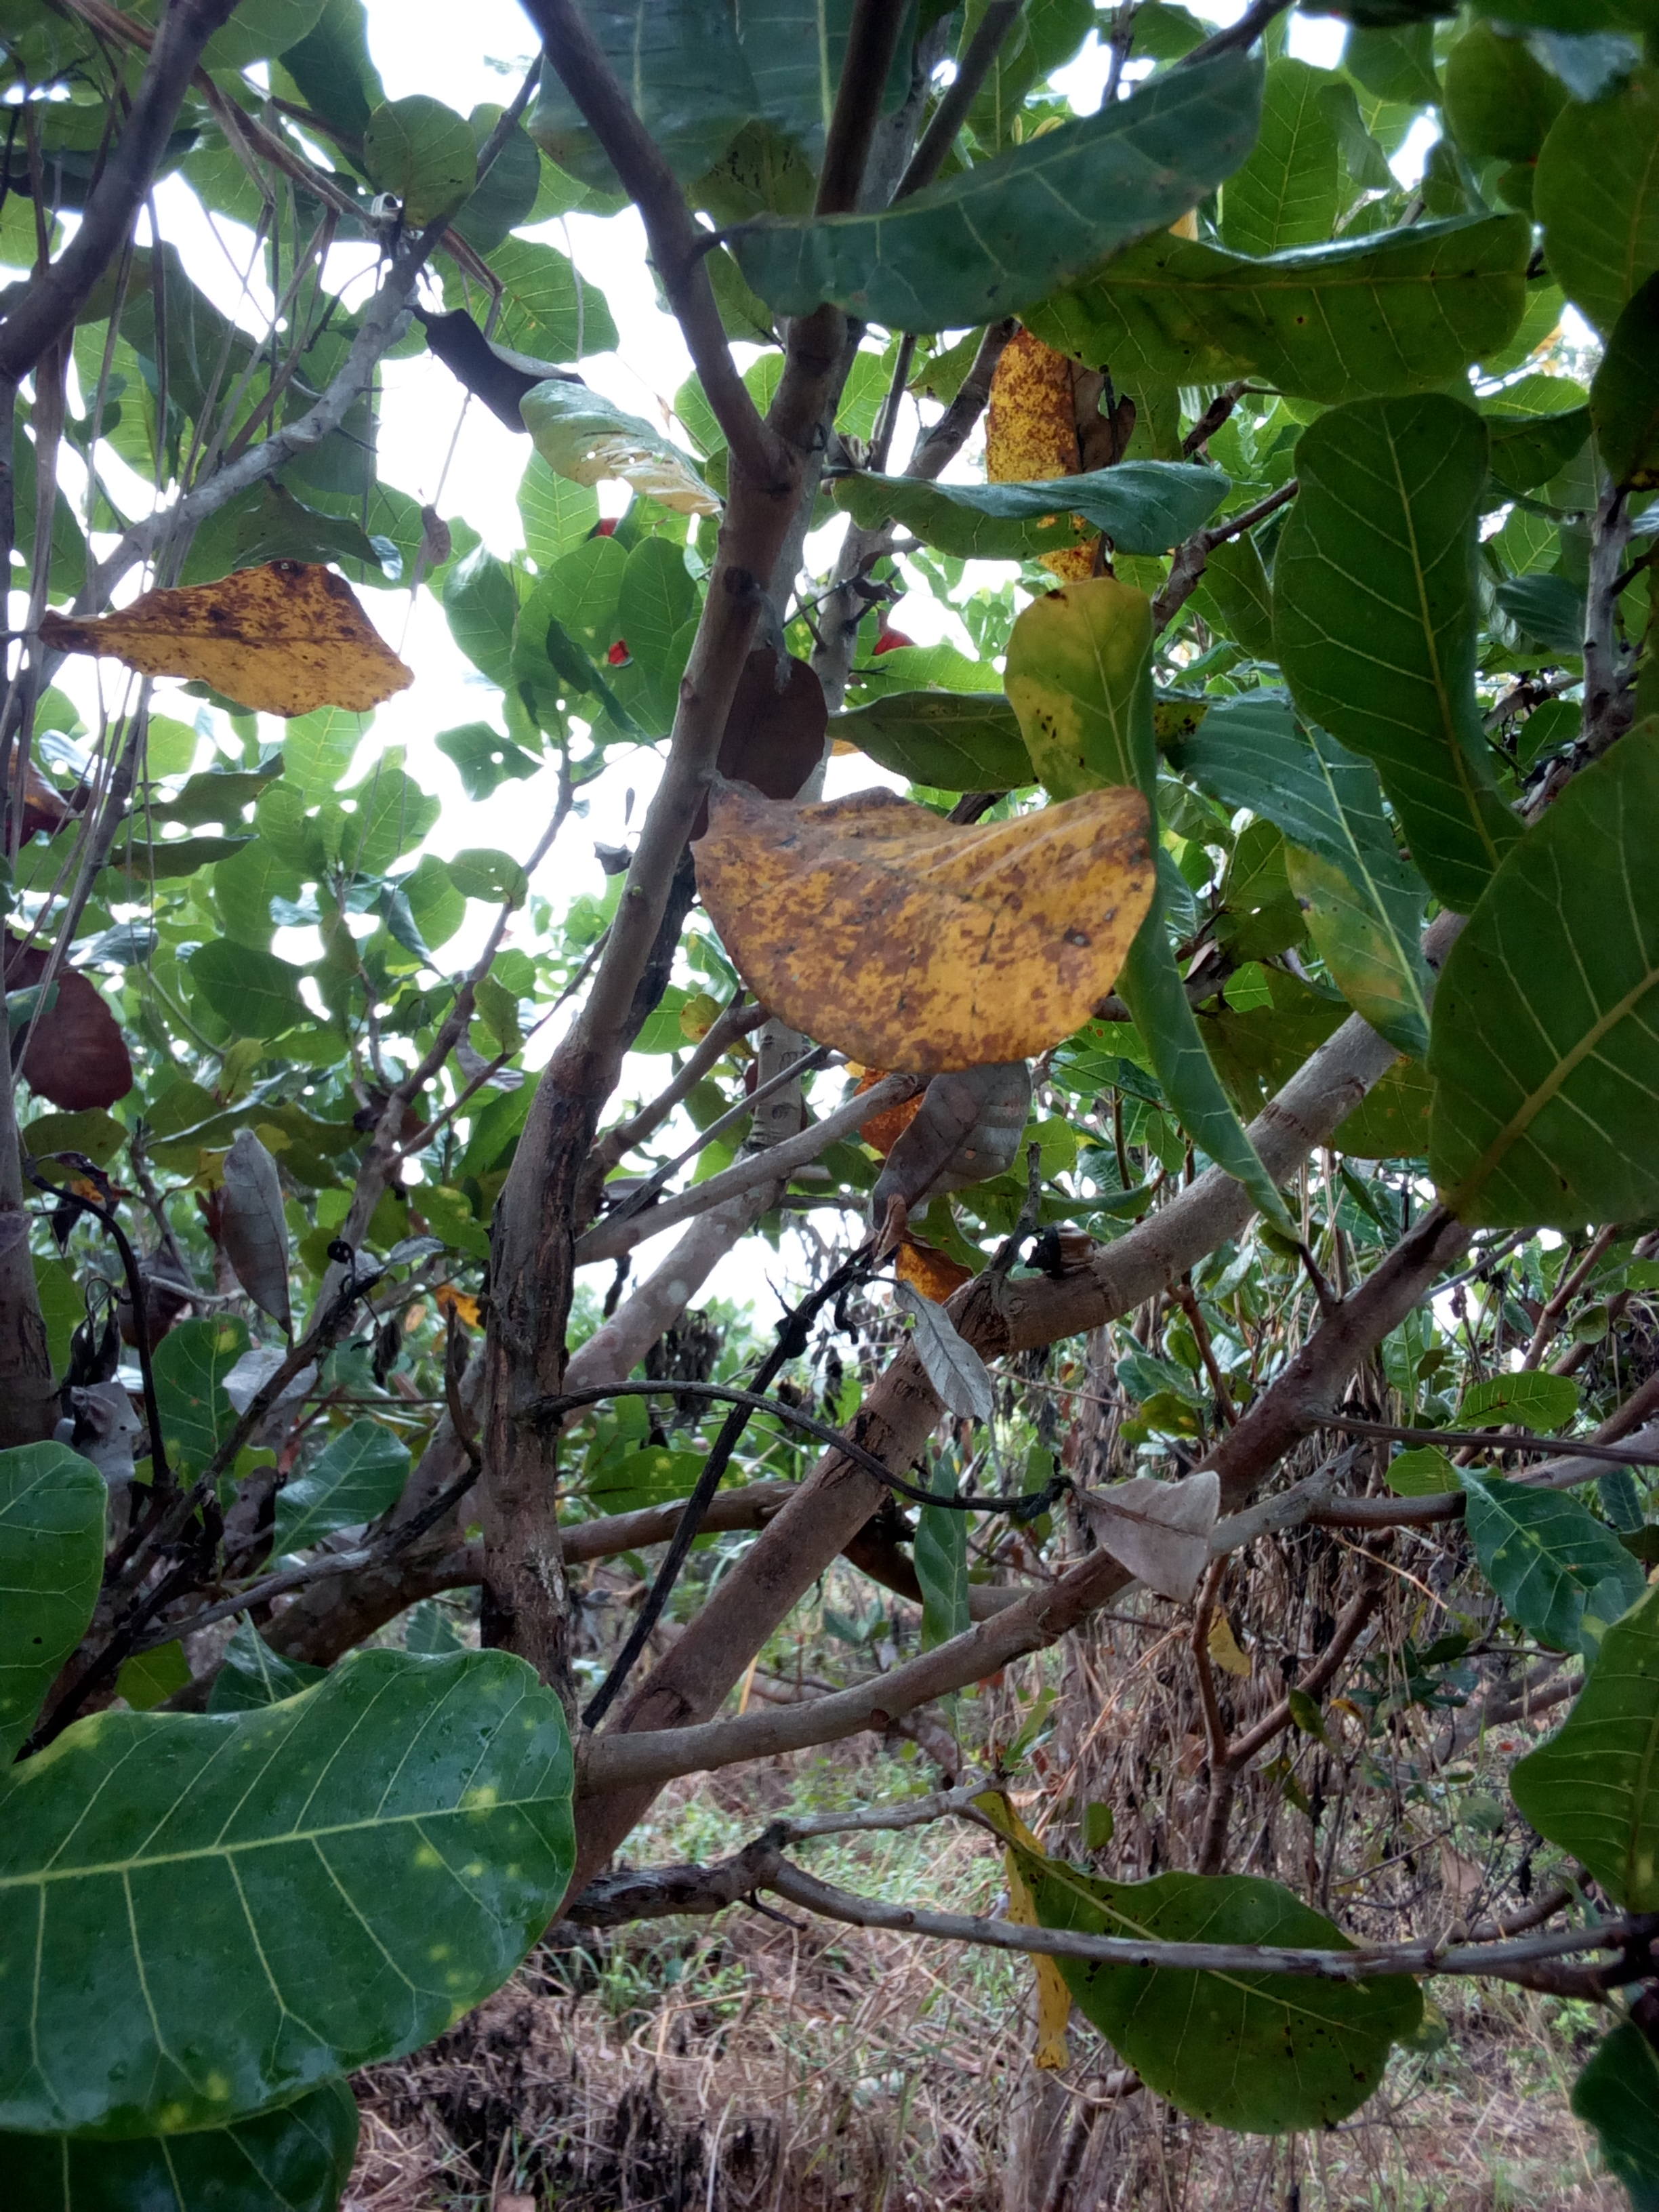Alternariose: (7, 1655, 579, 2142)
Anthracnose: (701, 784, 1159, 1082), (1002, 1834, 1415, 2142), (58, 557, 416, 709), (202, 1127, 310, 1357), (1077, 1465, 1239, 1597)
